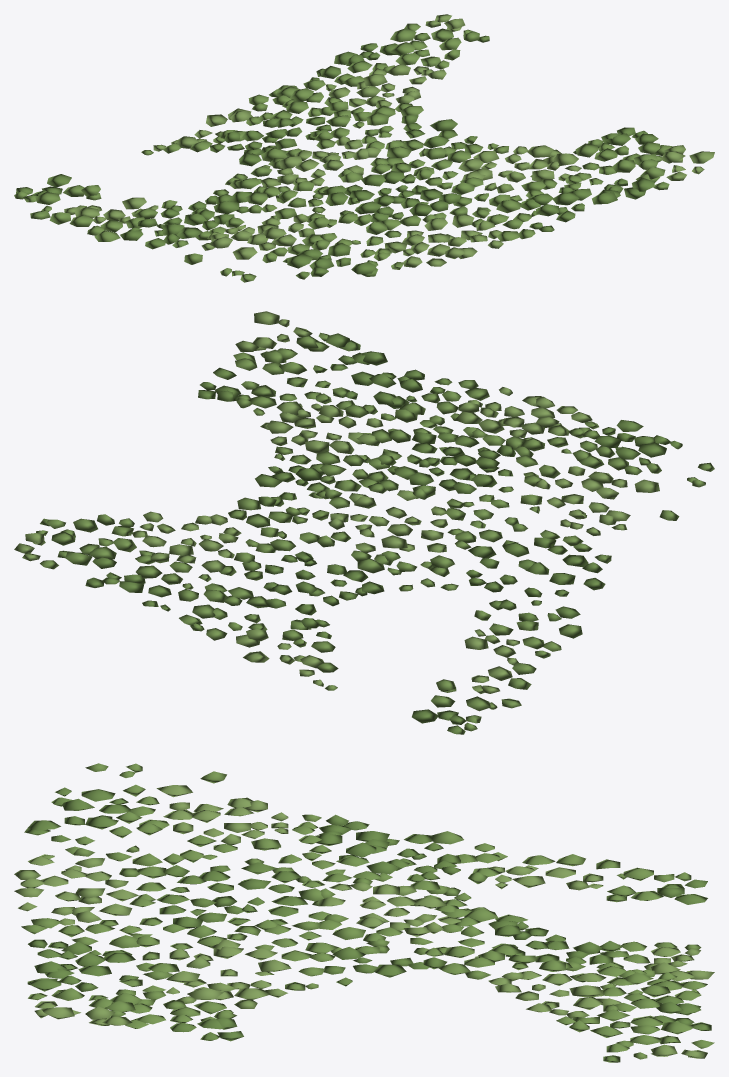
Rendered from canopy-1-0--5.glb.
The picture shows the model from 3 angles, top to bottom: view 1: azimuth 30°, elevation 25°; view 2: azimuth 150°, elevation 25°; view 3: azimuth 270°, elevation 25°; orthographic projection. The views are drawn at different scales.
Size of the model in its own units: 518 by 122 by 518.
1 material, 1 textured.
